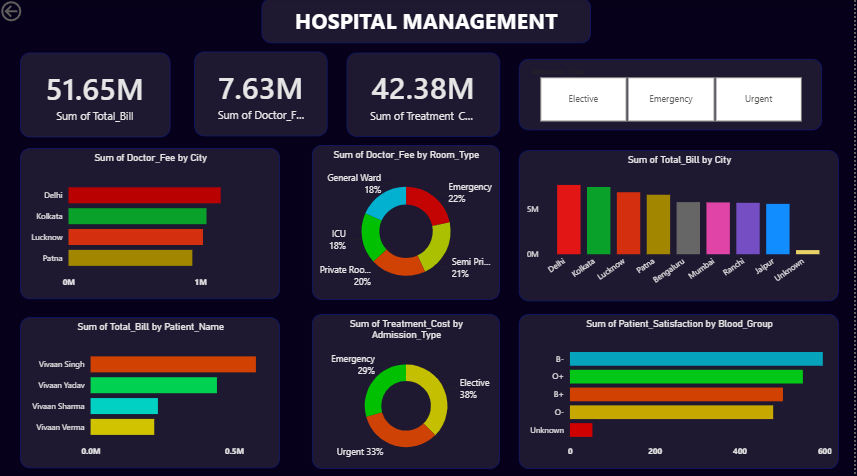

What the dashboard file says about the page in this screenshot:
{"tool":"powerbi","page":{"name":"Page 1","canvas":[1280,720],"ordinal":0},"visuals":[{"type":"columnChart","fields":{"Category":["Sheet1.City"],"Y":["Sum(Sheet1.Total_Bill)"]},"box":[778.4,227.6,478.5,225.5],"z":0},{"type":"barChart","fields":{"Category":["Sheet1.Blood_Group"],"Y":["Sum(Sheet1.Patient_Satisfaction)"]},"box":[778.4,472.4,478.5,231],"z":1000},{"type":"donutChart","fields":{"Category":["Sheet1.Room_Type"],"Y":["Sum(Sheet1.Doctor_Fee)"]},"box":[469.3,219.7,280.5,231],"z":2000},{"type":"donutChart","fields":{"Category":["Sheet1.Admission_Type"],"Y":["Sum(Sheet1.Treatment_Cost)"]},"box":[469.3,472.4,280.5,231],"z":3000},{"type":"actionButton","box":[0,0,100,40],"z":4000},{"type":"cardVisual","fields":{"Data":["Sum(Sheet1.Total_Bill)"]},"box":[33,81.6,224.4,127.1],"z":5000},{"type":"cardVisual","fields":{"Data":["Sum(Sheet1.Doctor_Fee)"]},"box":[293.5,80,199.3,127.1],"z":6000},{"type":"cardVisual","fields":{"Data":["Sum(Sheet1.Treatment_Cost)"]},"box":[521.1,81.6,229.1,125.6],"z":7000},{"type":"barChart","fields":{"Category":["Sheet1.City"],"Y":["Sum(Sheet1.Doctor_Fee)"]},"box":[33,224.4,388.7,225.5],"z":8000},{"type":"barChart","fields":{"Y":["Sum(Sheet1.Total_Bill)"],"Category":["Sheet1.Patient_Name"]},"box":[33,477.1,388.7,225.5],"z":9000},{"type":"slicer","fields":{"Values":["Sheet1.Admission_Type"]},"box":[778.4,91,452.9,106.3],"z":10000},{"type":"textbox","box":[393.9,0,492.8,67.5],"z":11000}]}

Visuals, with their boxes in screenshot pixels (x1, y1, x2, y2), scaled from the page's 1280x720 canvas onto the 857x476 screenshot:
columnChart - Sheet1.City x Sum(Sheet1.Total_Bill): bbox=(521, 150, 842, 300)
barChart - Sheet1.Blood_Group x Sum(Sheet1.Patient_Satisfaction): bbox=(521, 312, 842, 465)
donutChart - Sheet1.Room_Type x Sum(Sheet1.Doctor_Fee): bbox=(314, 145, 502, 298)
donutChart - Sheet1.Admission_Type x Sum(Sheet1.Treatment_Cost): bbox=(314, 312, 502, 465)
actionButton: bbox=(0, 0, 67, 26)
cardVisual - Sum(Sheet1.Total_Bill): bbox=(22, 54, 172, 138)
cardVisual - Sum(Sheet1.Doctor_Fee): bbox=(197, 53, 330, 137)
cardVisual - Sum(Sheet1.Treatment_Cost): bbox=(349, 54, 502, 137)
barChart - Sheet1.City x Sum(Sheet1.Doctor_Fee): bbox=(22, 148, 282, 297)
barChart - Sum(Sheet1.Total_Bill) x Sheet1.Patient_Name: bbox=(22, 315, 282, 464)
slicer - Sheet1.Admission_Type: bbox=(521, 60, 824, 130)
textbox: bbox=(264, 0, 594, 45)
